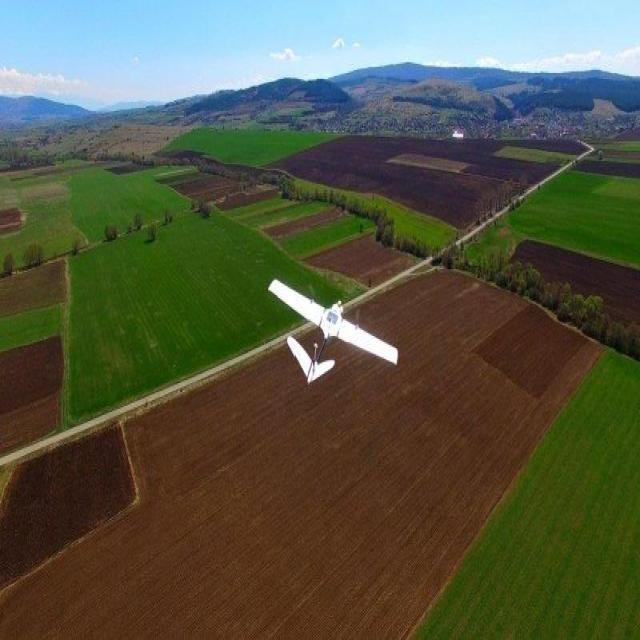iha: (264, 256, 411, 409)
